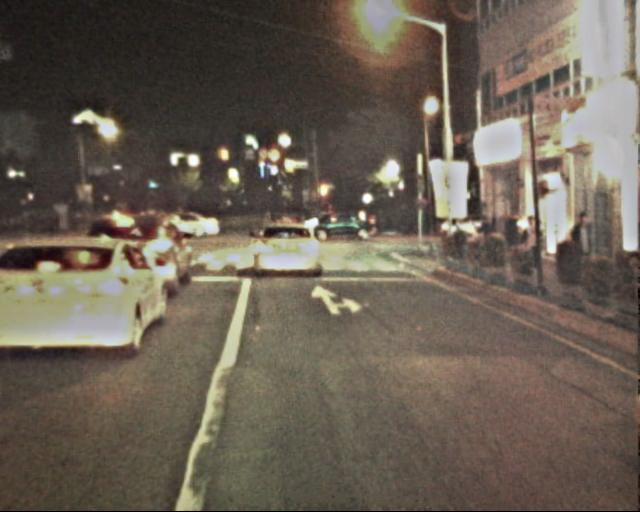person: (574, 211, 598, 282), (36, 202, 85, 234), (519, 212, 544, 272), (262, 207, 307, 228)
